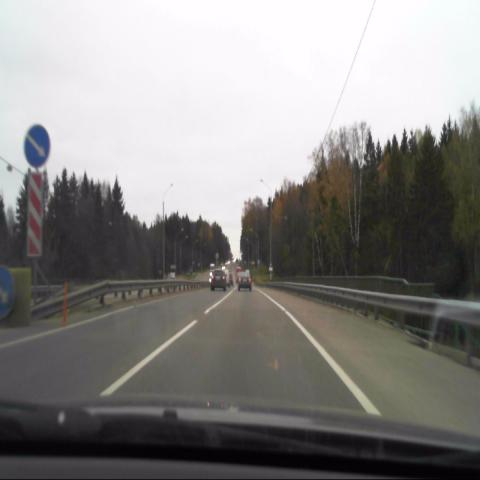4_2_1: (22, 125, 52, 170)
